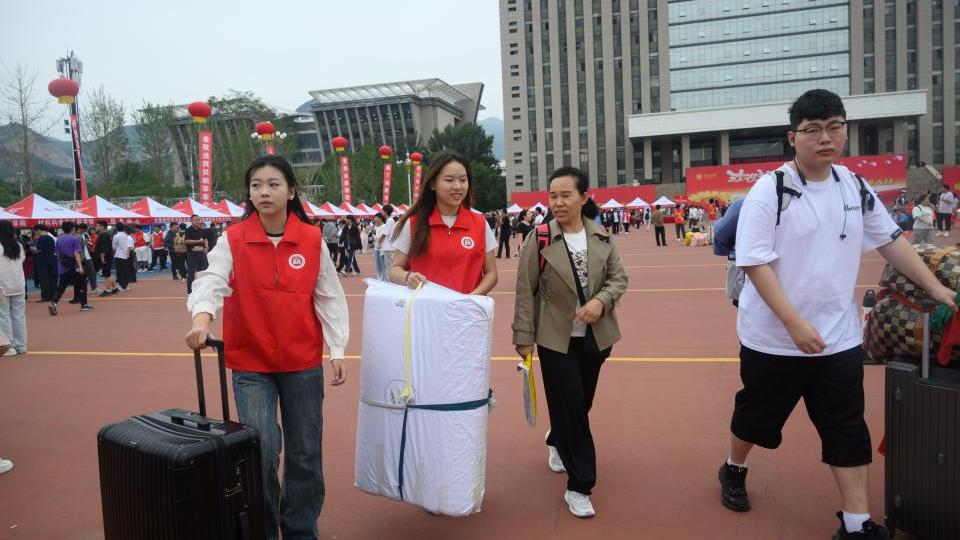persion: (786, 116, 848, 170), (250, 165, 297, 216), (546, 172, 589, 226), (433, 161, 469, 207), (93, 221, 107, 233), (382, 205, 392, 221), (190, 215, 201, 228), (373, 213, 383, 226), (345, 216, 354, 227)
